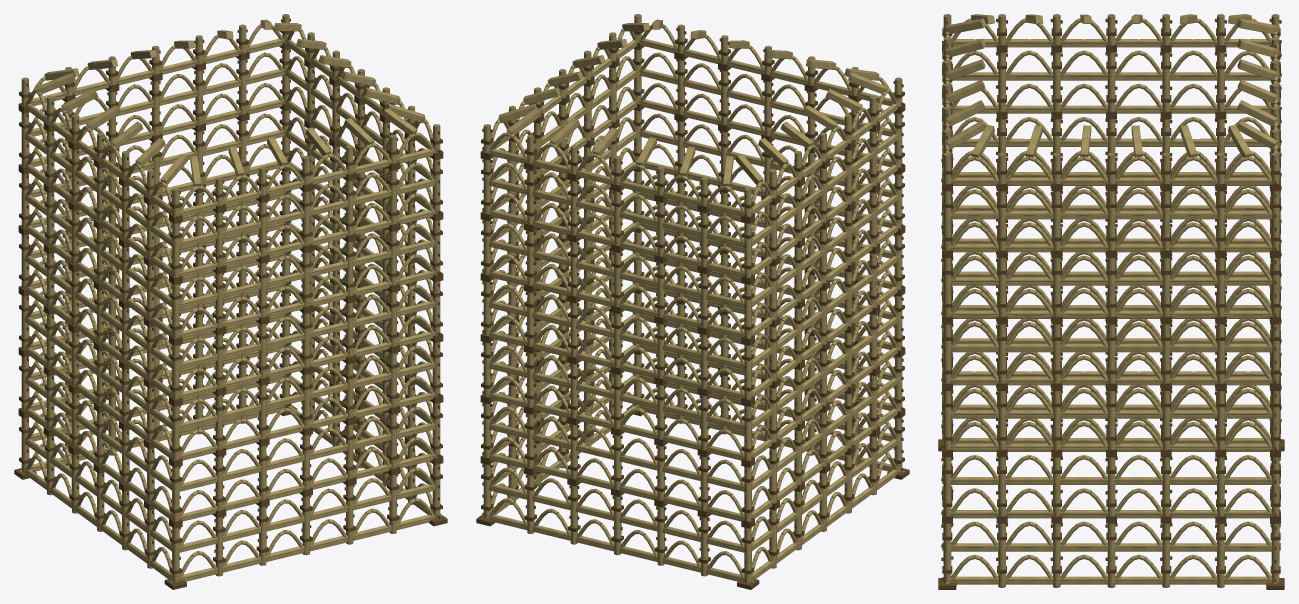
3 renders of one model, left to right at view 1: azimuth 30°, elevation 25°; view 2: azimuth 150°, elevation 25°; view 3: azimuth 270°, elevation 25°, orthographic. The views are drawn at different scales.
Visible parts, largest first — view 1: no part large enough to name; view 2: no part large enough to name; view 3: Tier 0 side 1 post 3, Tier 0 side 1 post 0, Tier 5 side 1 post 0, Tier 2 side 1 post 0, Crown petal 2-0, Tier 0 side 1 post 2, Tier 3 side 1 post 0, Tier 4 side 1 post 0, Tier 0 side 1 post 4, Tier 1 side 1 post 0, Tier 5 side 1 post 3, Tier 5 side 3 post 3 (+4 smaller).
Part boxes in pixels (x1,y1,x2,y2): Tier 0 side 1 post 3: (1107, 523, 1115, 587); Tier 0 side 1 post 0: (943, 523, 951, 582); Tier 5 side 1 post 0: (943, 191, 951, 250); Tier 2 side 1 post 0: (943, 391, 951, 449); Crown petal 2-0: (1237, 120, 1277, 149); Tier 0 side 1 post 2: (1053, 523, 1060, 587); Tier 3 side 1 post 0: (943, 324, 951, 383); Tier 4 side 1 post 0: (943, 258, 951, 316); Tier 0 side 1 post 4: (1162, 523, 1169, 587); Tier 1 side 1 post 0: (943, 457, 951, 516); Tier 5 side 1 post 3: (1107, 191, 1115, 250); Tier 5 side 3 post 3: (1107, 52, 1115, 111).
Bounding box in the file's own units: 2.85 × 4.05 × 2.85.
Materials: 2 (2 with a texture image).
